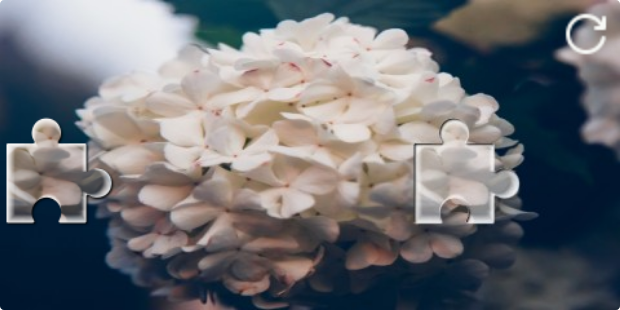target: (414, 118, 520, 225)
